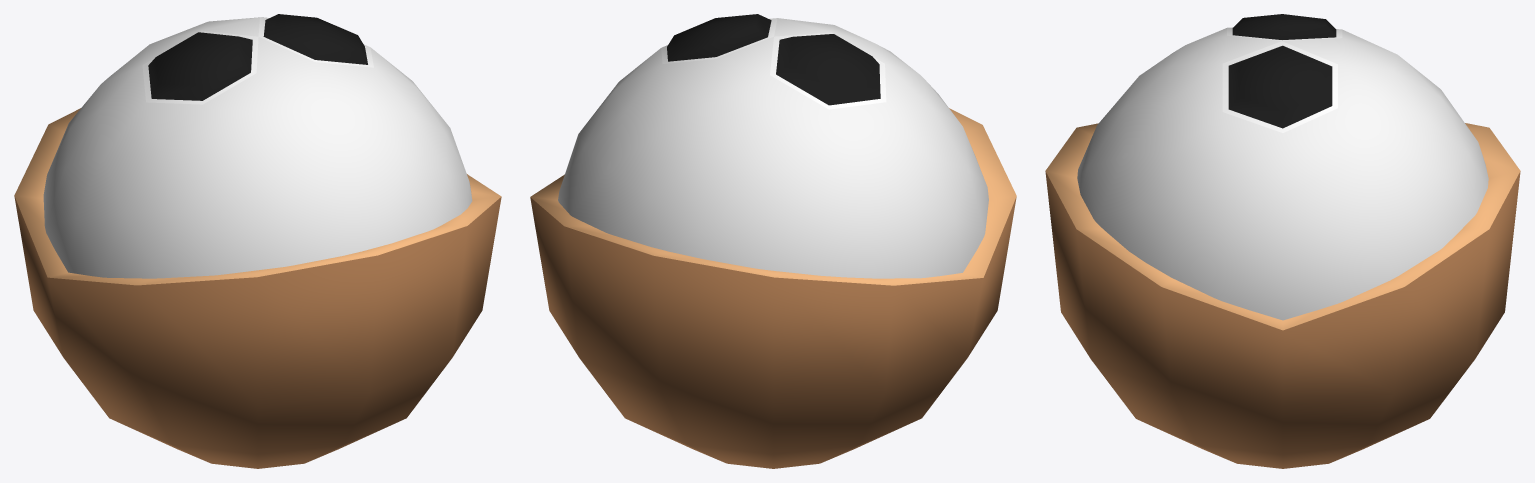
Rendered from Doublevision.fbx.
3 renders of one model, left to right at view 1: azimuth 30°, elevation 25°; view 2: azimuth 150°, elevation 25°; view 3: azimuth 270°, elevation 25°, orthographic.
Parts seen in each view (by area): view 1: Doublevision - Haskipend; view 2: Doublevision - Haskipend; view 3: Doublevision - Haskipend.
Part boxes in pixels (<box>): Doublevision - Haskipend: <box>14,14,501,468</box>; Doublevision - Haskipend: <box>530,14,1016,468</box>; Doublevision - Haskipend: <box>1045,14,1520,468</box>.
Size of the model in its own units: 22.78 by 21.45 by 22.53.
